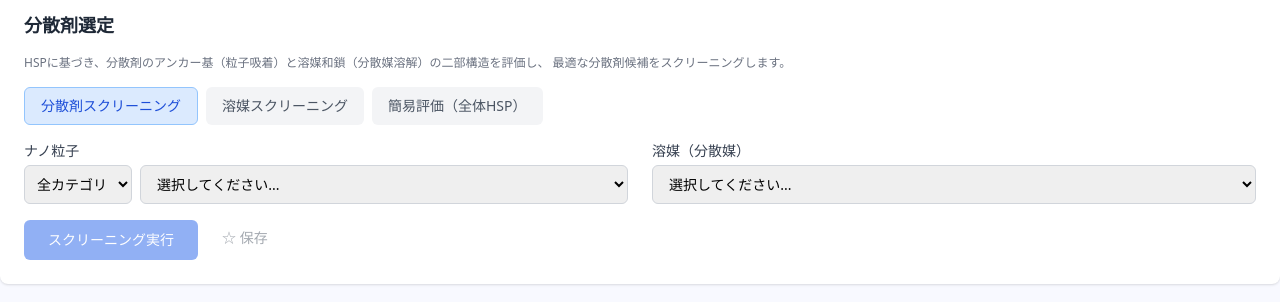
Test: DispersantSelectionView › 溶媒スクリーニングモードで分散剤セレクタが表示される
Click the button "溶媒スクリーニング": [285, 106] box [206,87,364,125]
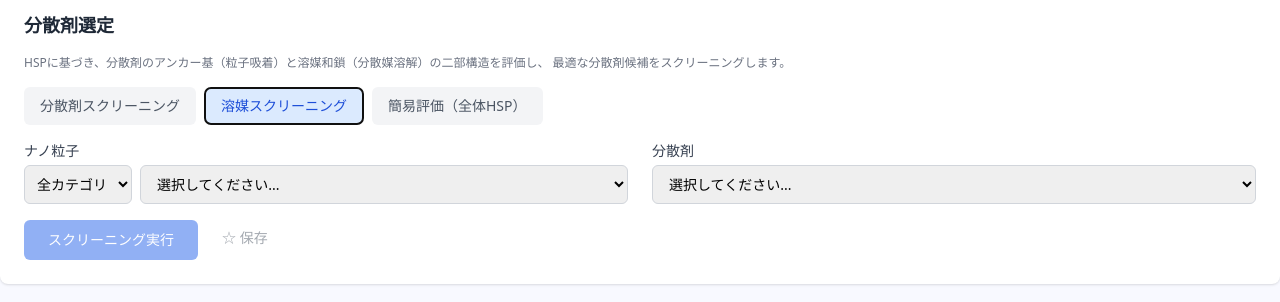
Now the text "分散剤" is shown, box [652,141,694,160]
